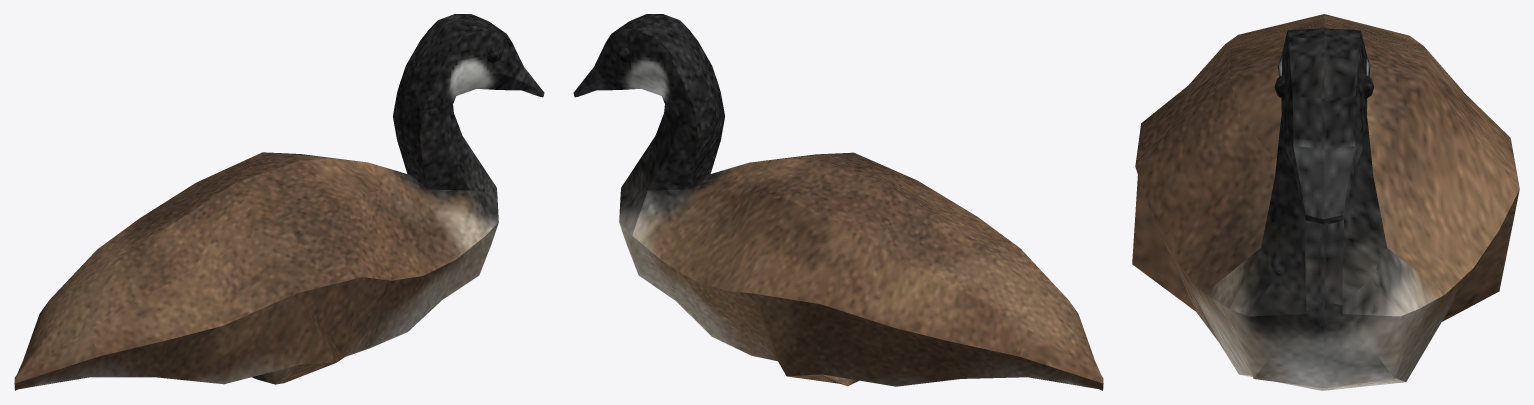
The model's file is CanadianGooseSwimming.fbx.
3 views of the same model, side by side, from view 1: azimuth 30°, elevation 25°; view 2: azimuth 150°, elevation 25°; view 3: azimuth 270°, elevation 25° (orthographic). The views are drawn at different scales.
Visible parts, largest first — view 1: CanadaGooseSwimming; view 2: CanadaGooseSwimming; view 3: CanadaGooseSwimming.
Part boxes in pixels (left/top/right/bottom): CanadaGooseSwimming: left=14, top=14, right=544, bottom=390; CanadaGooseSwimming: left=573, top=14, right=1103, bottom=390; CanadaGooseSwimming: left=1132, top=14, right=1519, bottom=390.
Size of the model in its own units: 194 by 101 by 82.74.
